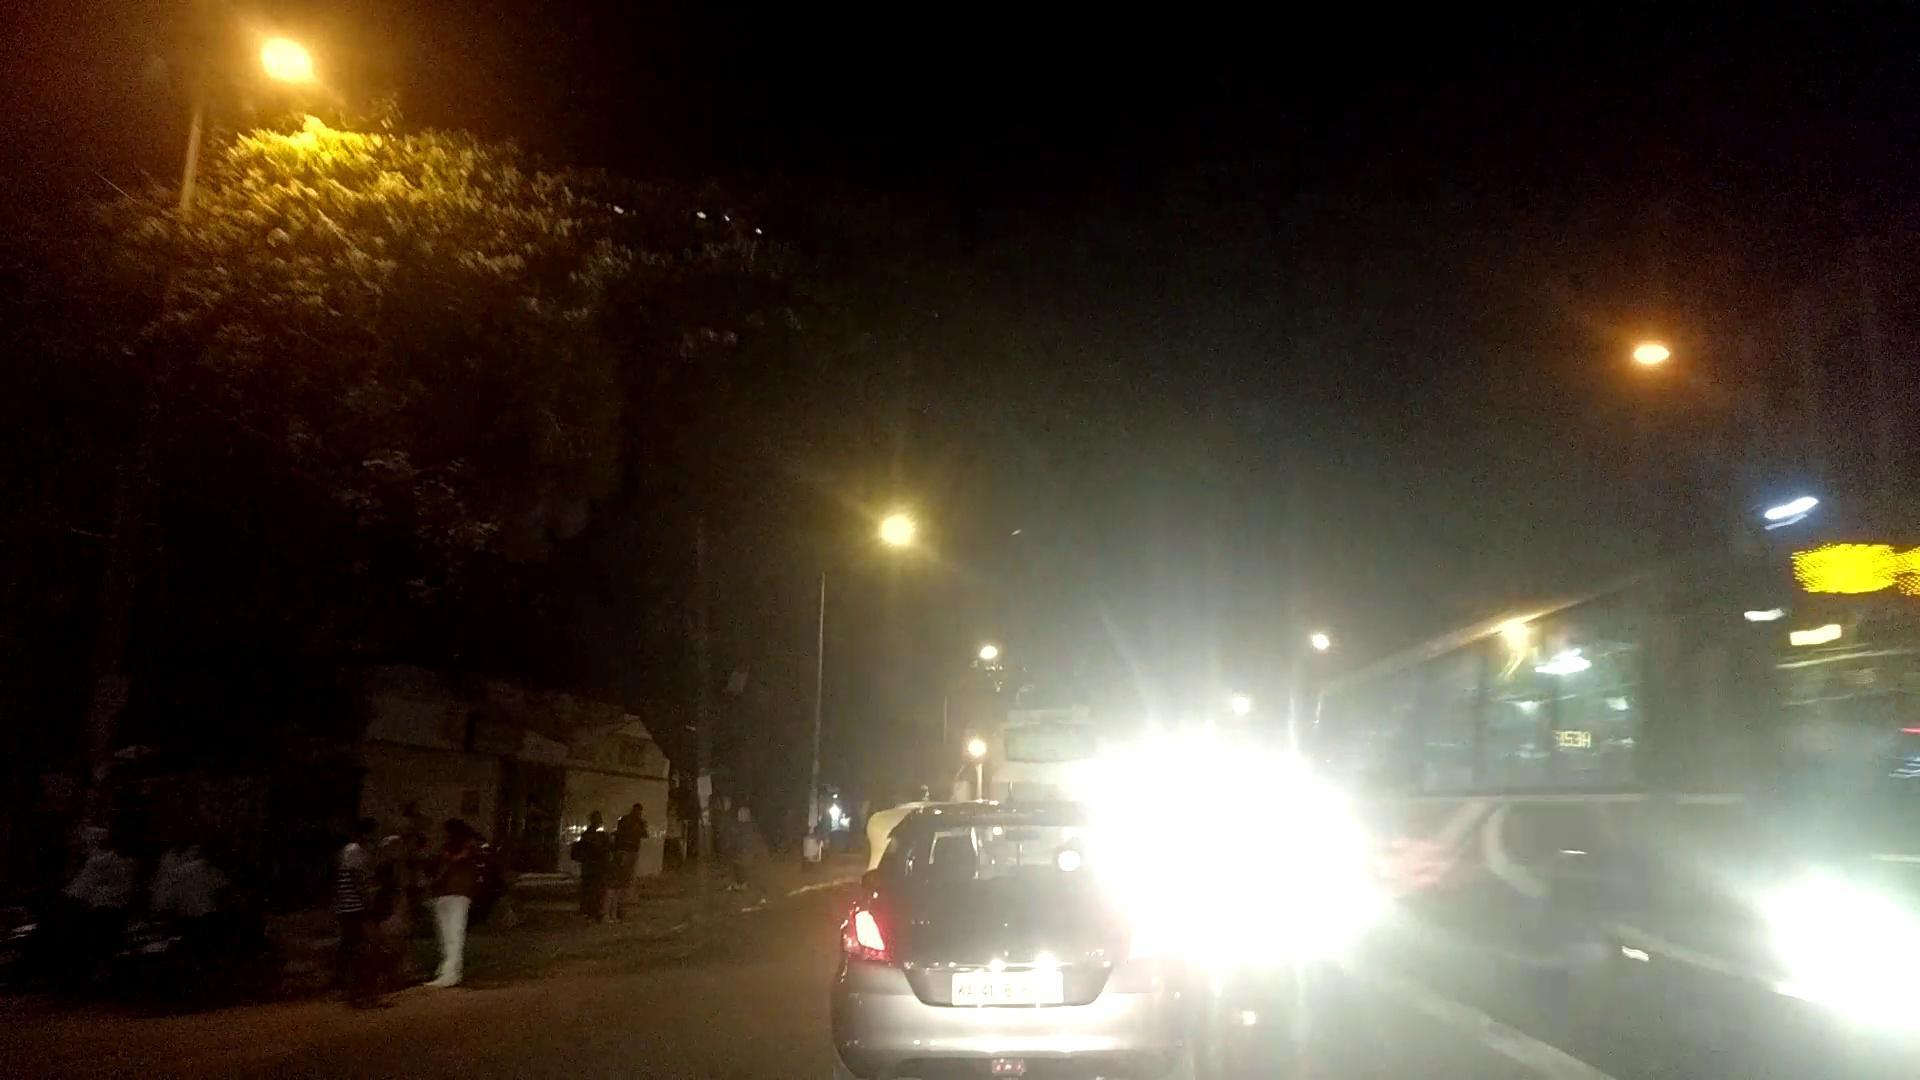on: (1451, 171, 1862, 603), (750, 363, 1110, 764), (181, 0, 447, 339)
